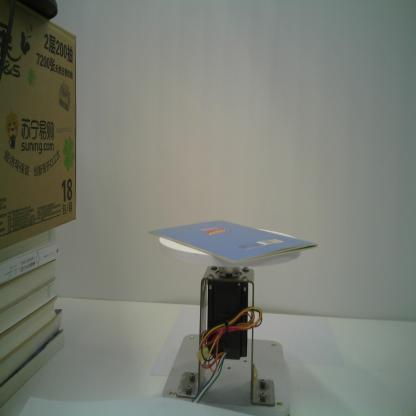Stationery: (148, 219, 318, 265)
